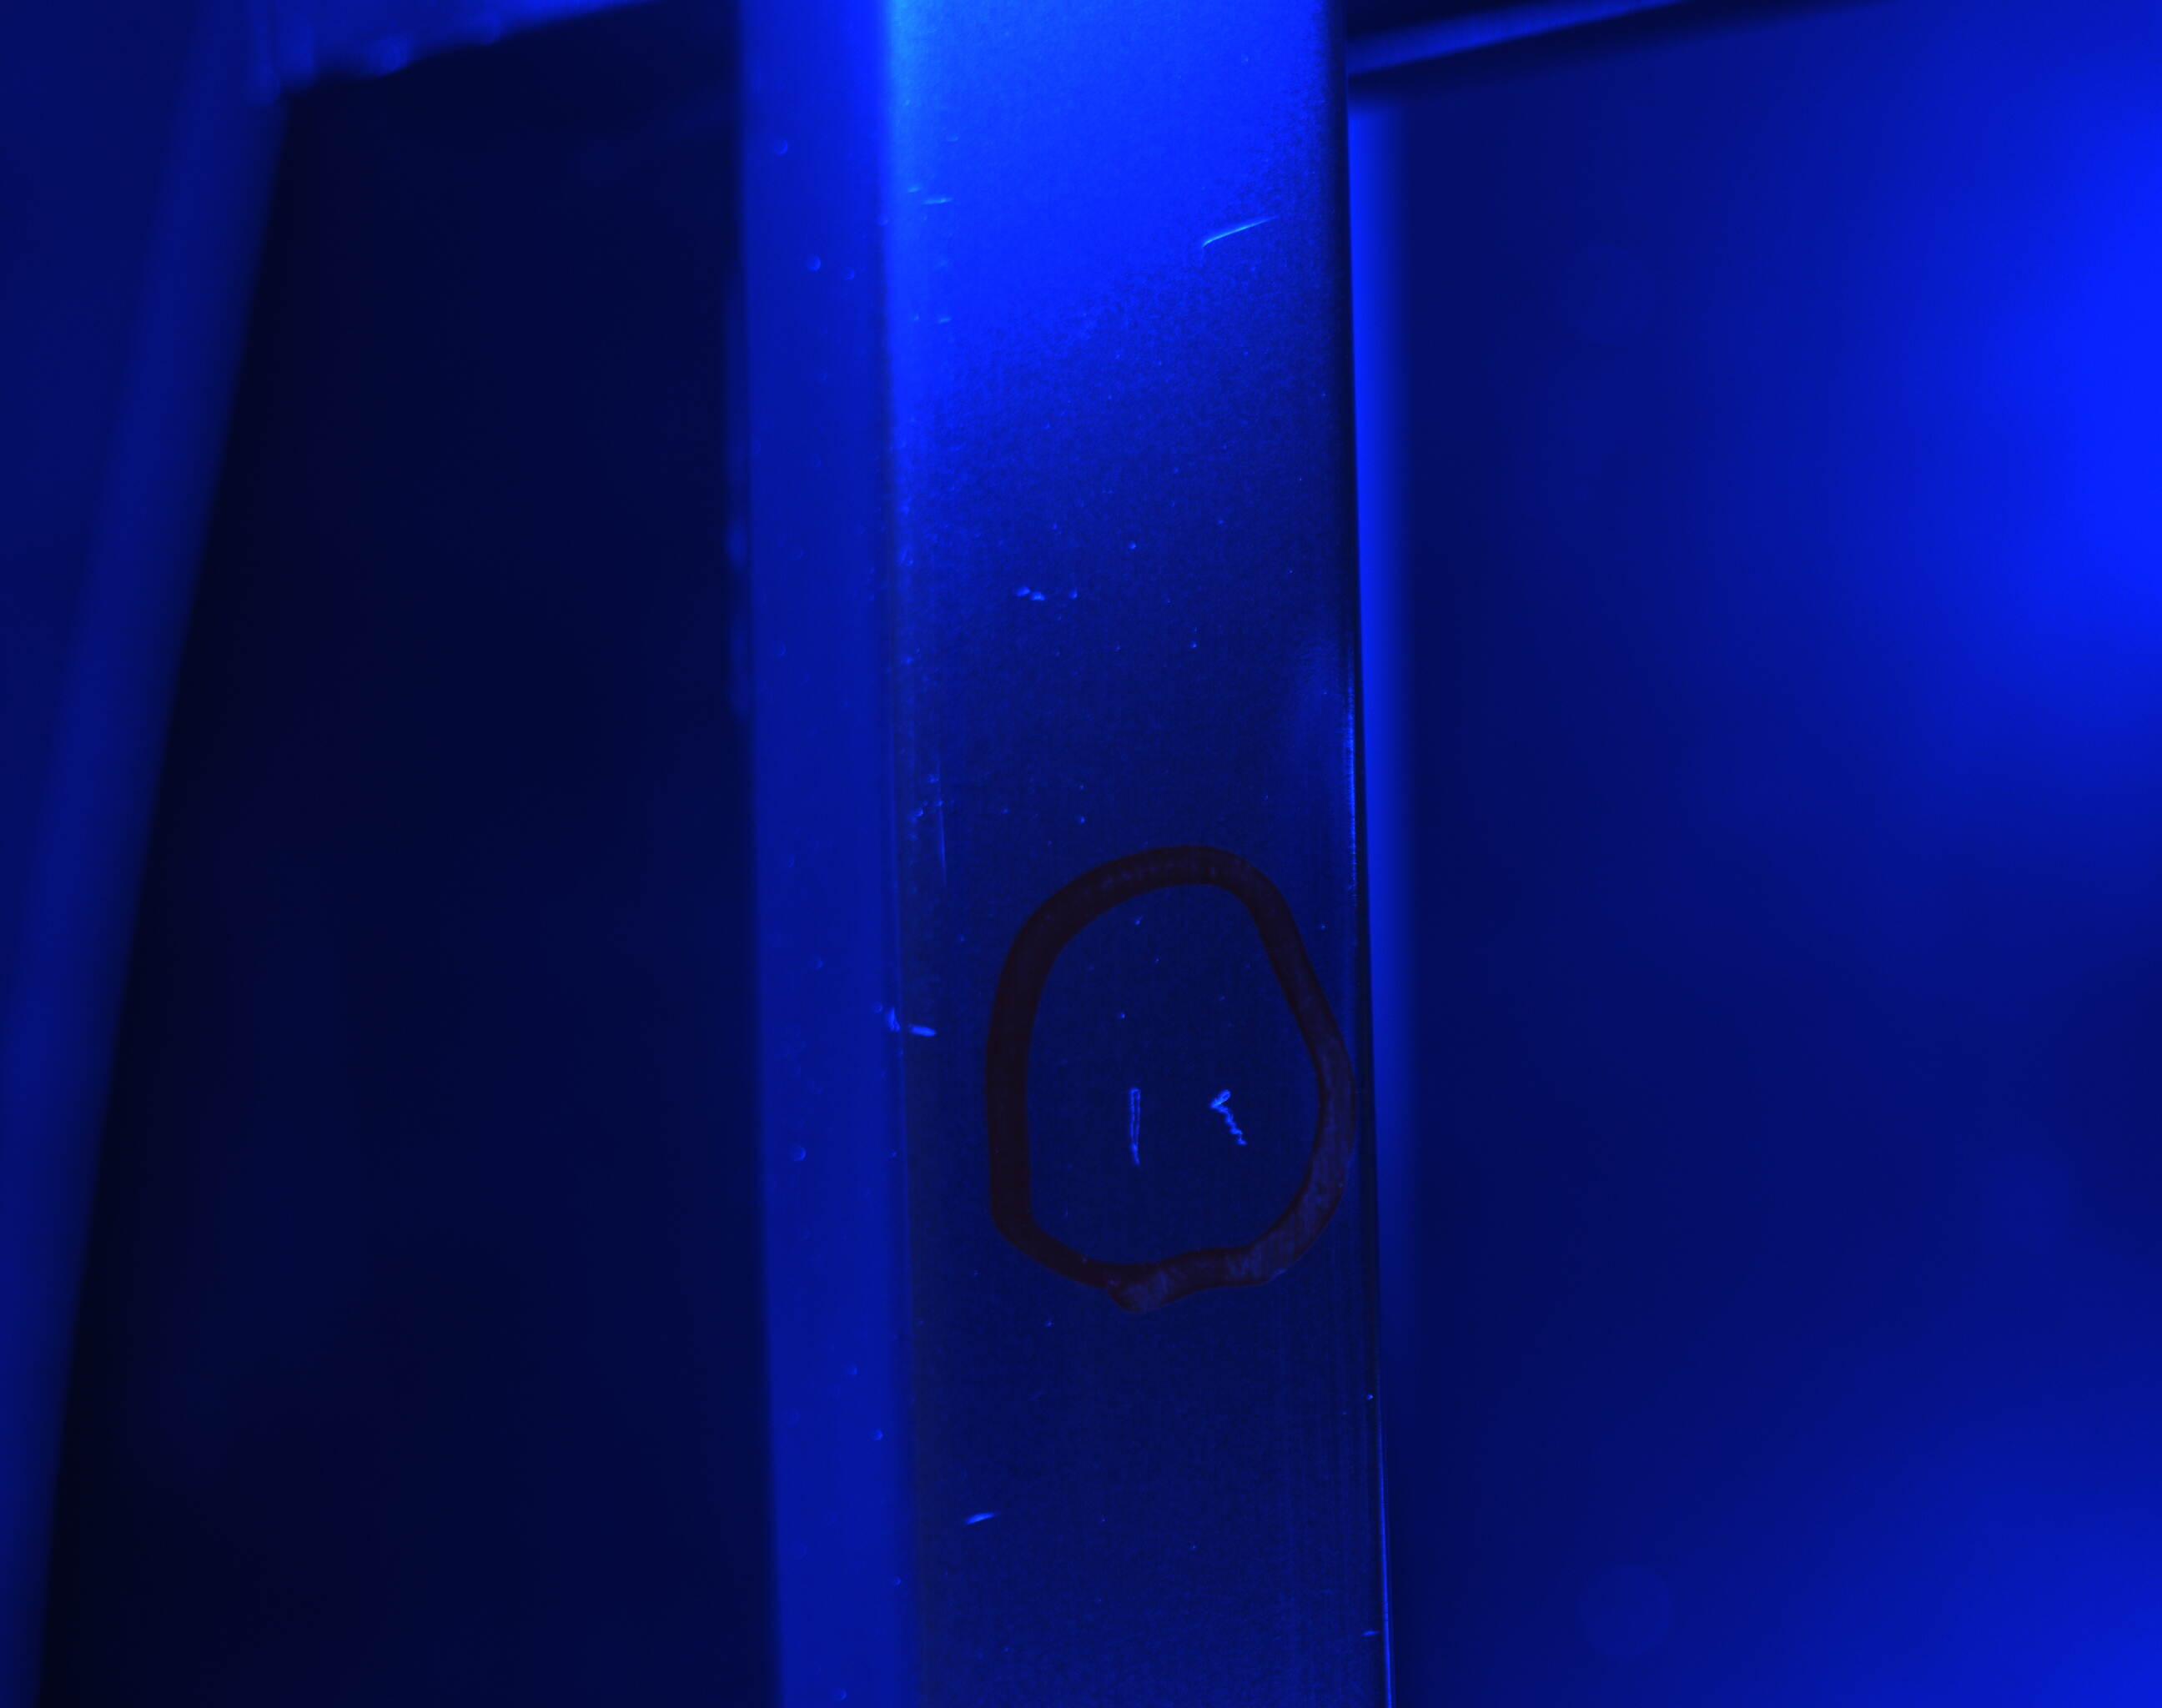NG: (1102, 1055, 1267, 1190), (1195, 191, 1292, 272), (872, 983, 955, 1071), (955, 1480, 1030, 1561)
